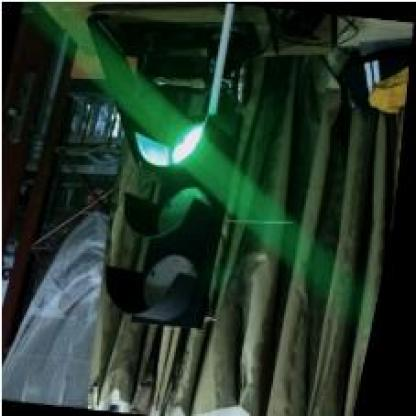green: (100, 100, 248, 329)
